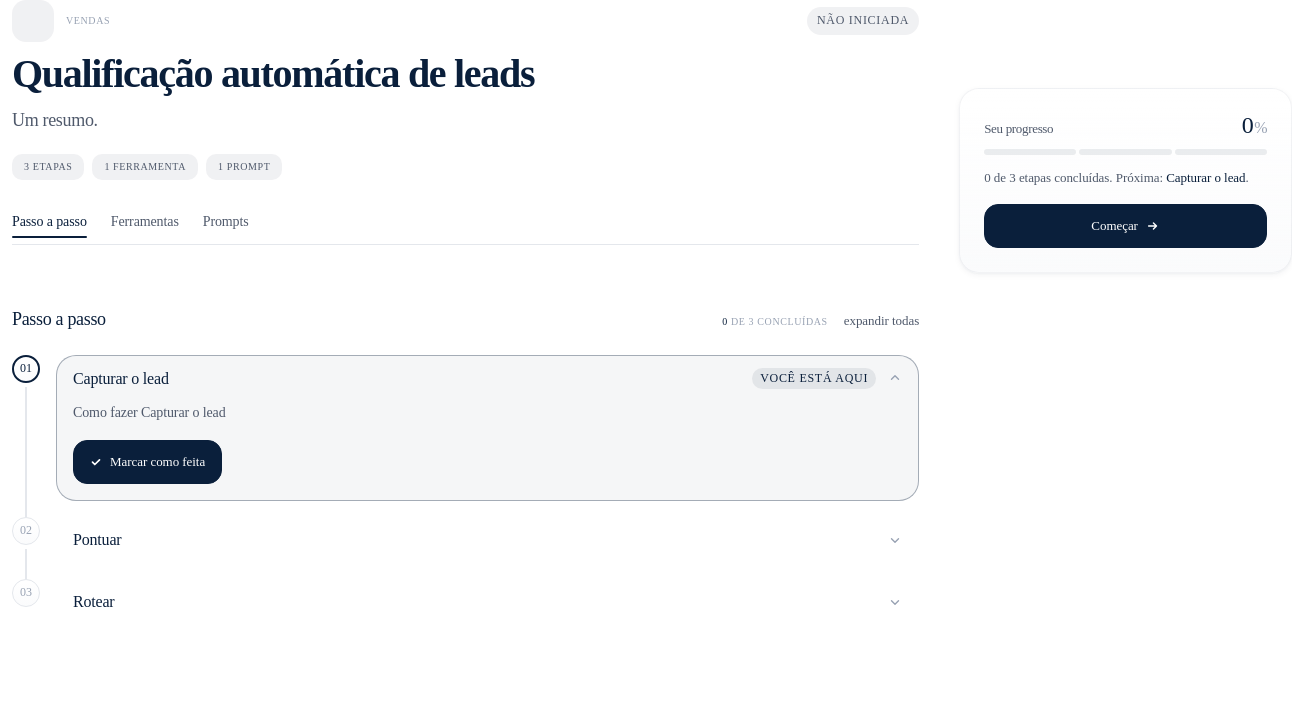
Test: ficha da solução › as abas trocam a coluna principal
Click the tab "Prompts" at (226, 224), box [191,204,261,244]
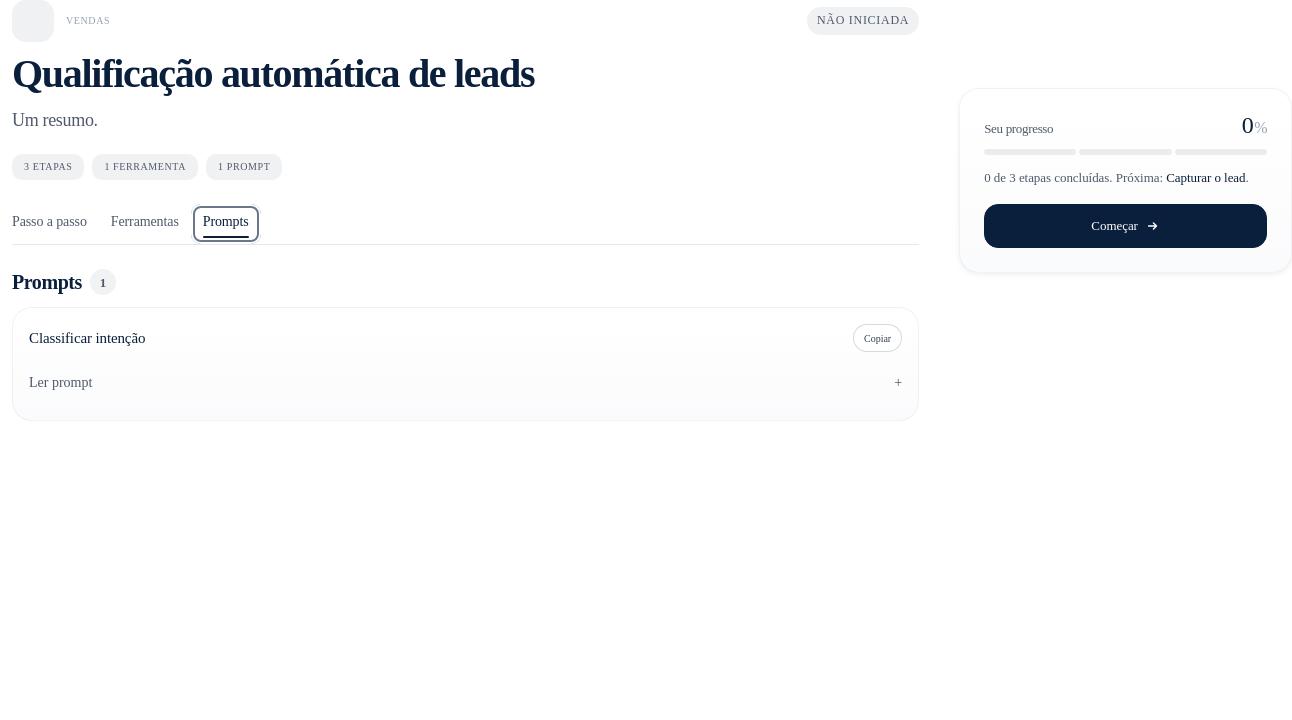
Check: the text "Classificar intenção" is shown, box [29,329,145,347]
